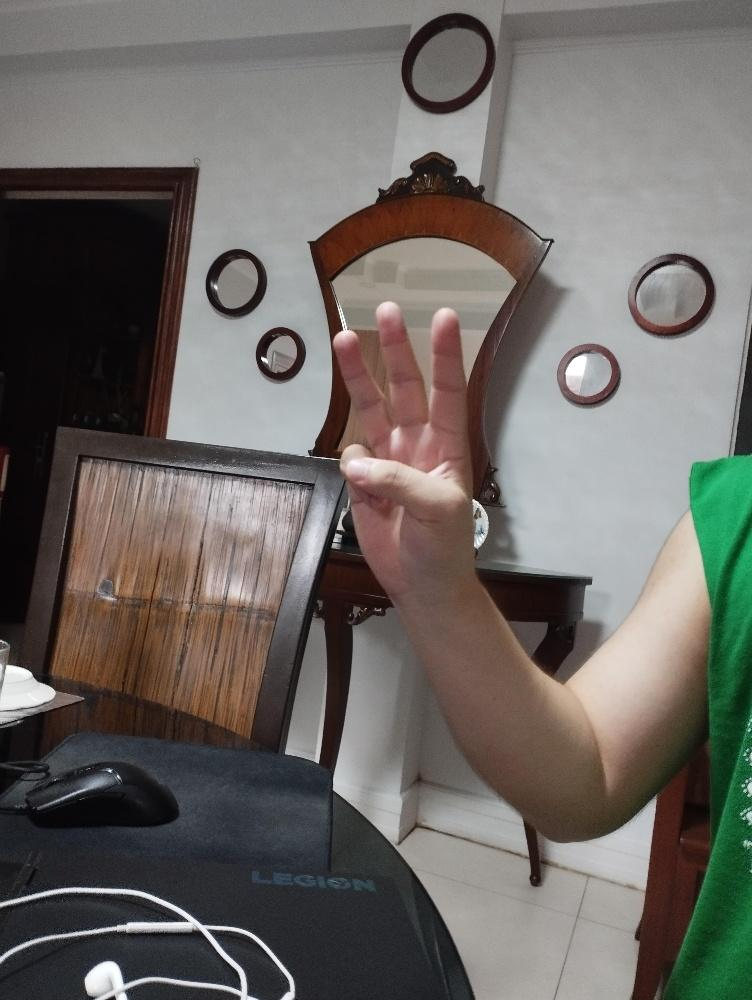w: (331, 295, 477, 594)
